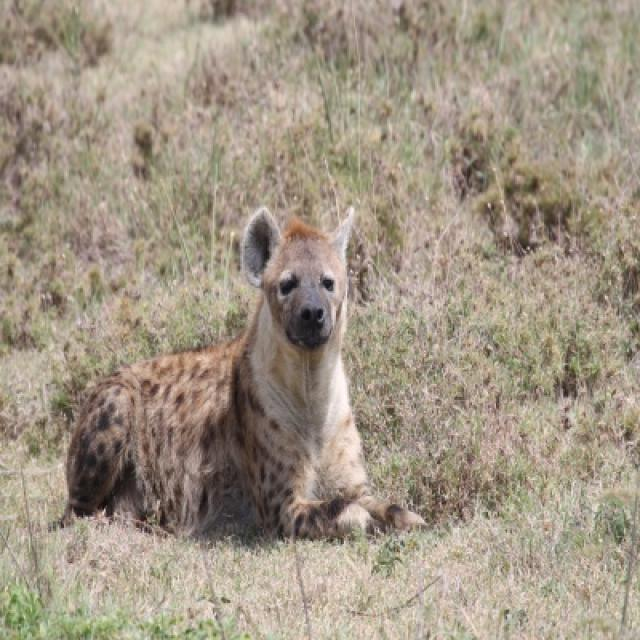hyena: (56, 208, 422, 542)
